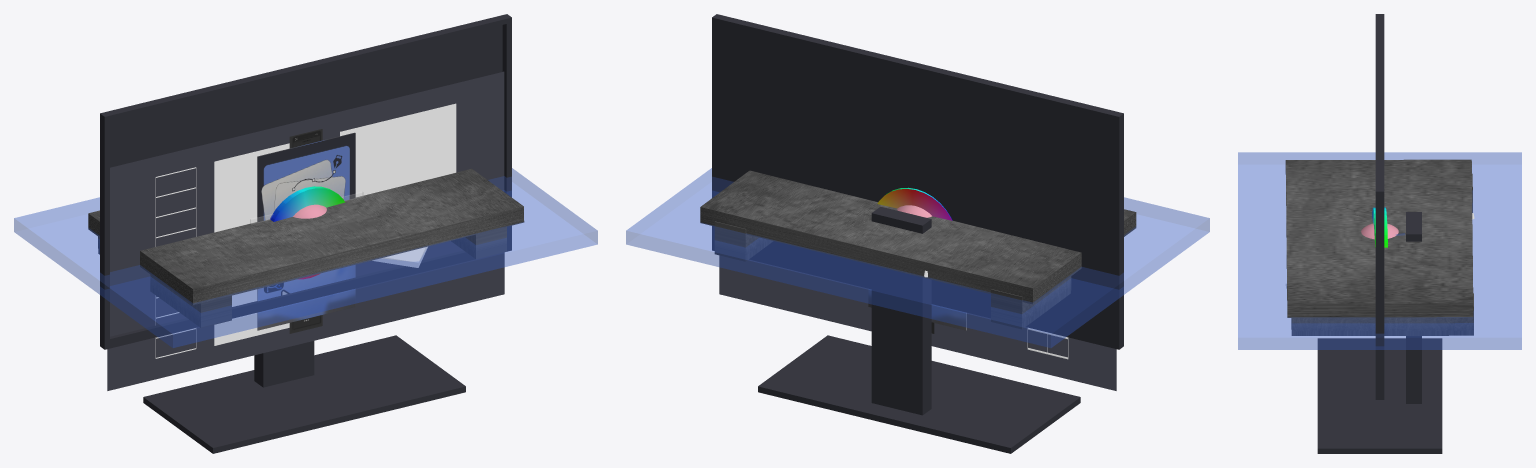
The model's file is glb-port2026-compressed.glb.
3 views of the same model, side by side, from view 1: azimuth 30°, elevation 25°; view 2: azimuth 150°, elevation 25°; view 3: azimuth 270°, elevation 25° (orthographic). The views are drawn at different scales.
Visible parts, largest first — view 1: base-monitor, pantalla, Base, base-madera, elem-pant, Plane004, color-wheele, Plane007, Plane_6; view 2: base-monitor, Base, base-madera, pantalla, color-wheele, Plane004; view 3: base-madera, Base, base-monitor, Sphere001.
Boxes of the visible parts, x1=… form: base-monitor: x1=100, y1=14, x2=511, y2=453; pantalla: x1=107, y1=71, x2=504, y2=390; Base: x1=14, y1=168, x2=597, y2=347; base-madera: x1=88, y1=168, x2=524, y2=327; elem-pant: x1=155, y1=103, x2=456, y2=358; Plane004: x1=257, y1=132, x2=355, y2=330; color-wheele: x1=270, y1=186, x2=345, y2=279; Plane007: x1=289, y1=129, x2=322, y2=333; Plane_6: x1=372, y1=246, x2=427, y2=267; base-monitor: x1=712, y1=14, x2=1123, y2=453; Base: x1=626, y1=168, x2=1209, y2=347; base-madera: x1=700, y1=170, x2=1136, y2=329; pantalla: x1=719, y1=255, x2=1116, y2=390; color-wheele: x1=877, y1=187, x2=952, y2=220; Plane004: x1=868, y1=289, x2=966, y2=330; base-madera: x1=1285, y1=159, x2=1473, y2=335; Base: x1=1238, y1=152, x2=1521, y2=349; base-monitor: x1=1317, y1=14, x2=1442, y2=453; Sphere001: x1=1361, y1=223, x2=1398, y2=239.
Size of the model in its own units: 125145 by 93348 by 80937.
Materials: 32 (7 with a texture image).
